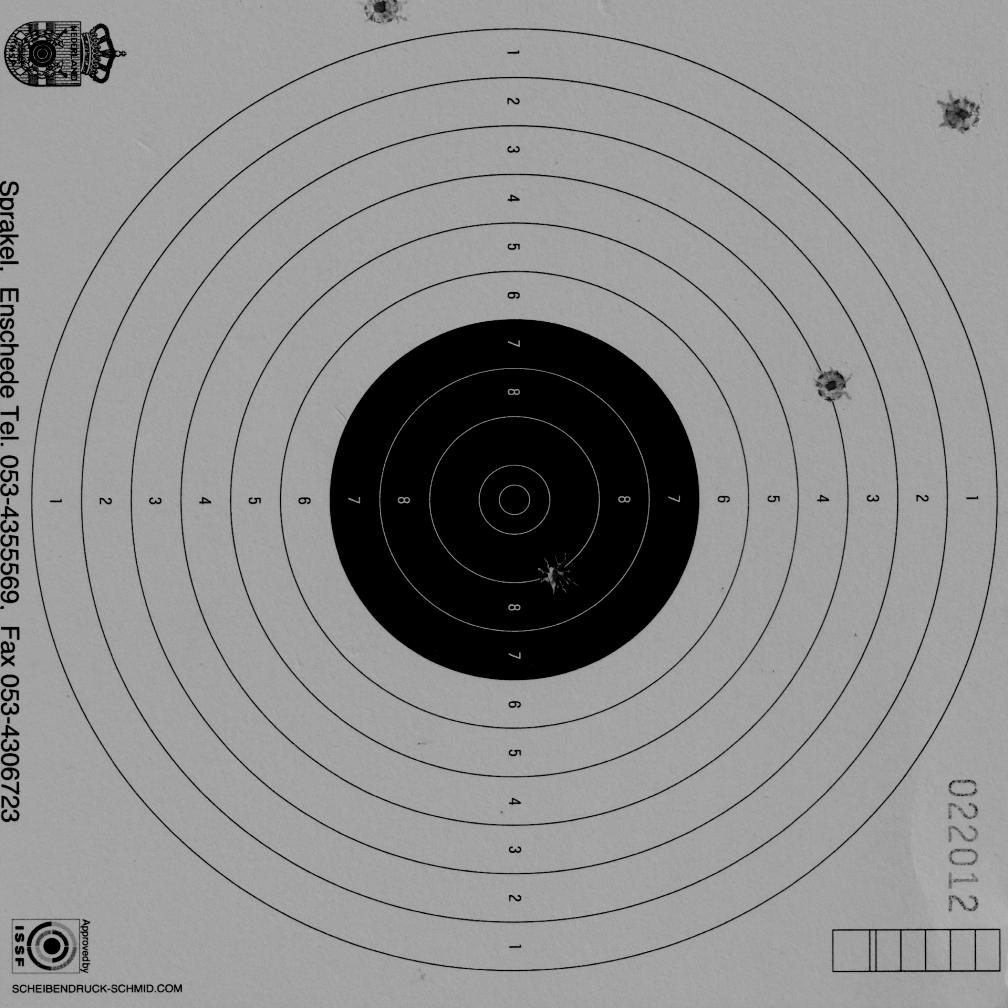0: (935, 89, 985, 140), (358, 0, 414, 25)
3: (810, 368, 854, 402)
9: (537, 552, 582, 598)
Target: (29, 26, 999, 975)
black_contour: (329, 320, 698, 680)
